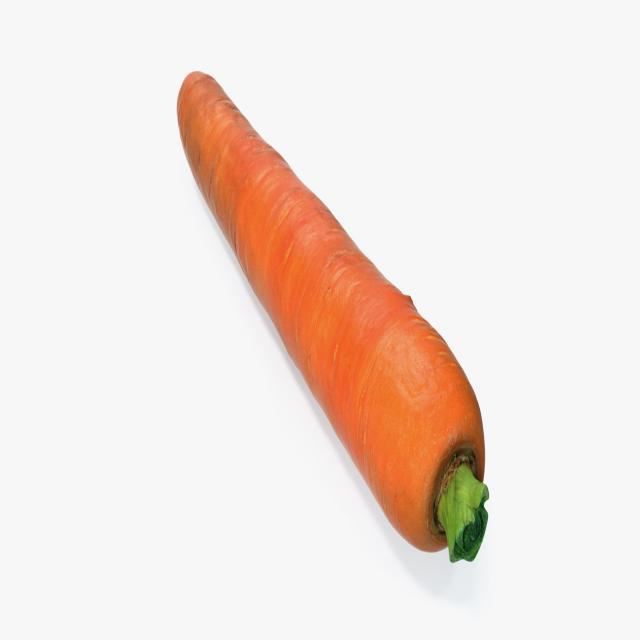carrot: (176, 60, 494, 581)
